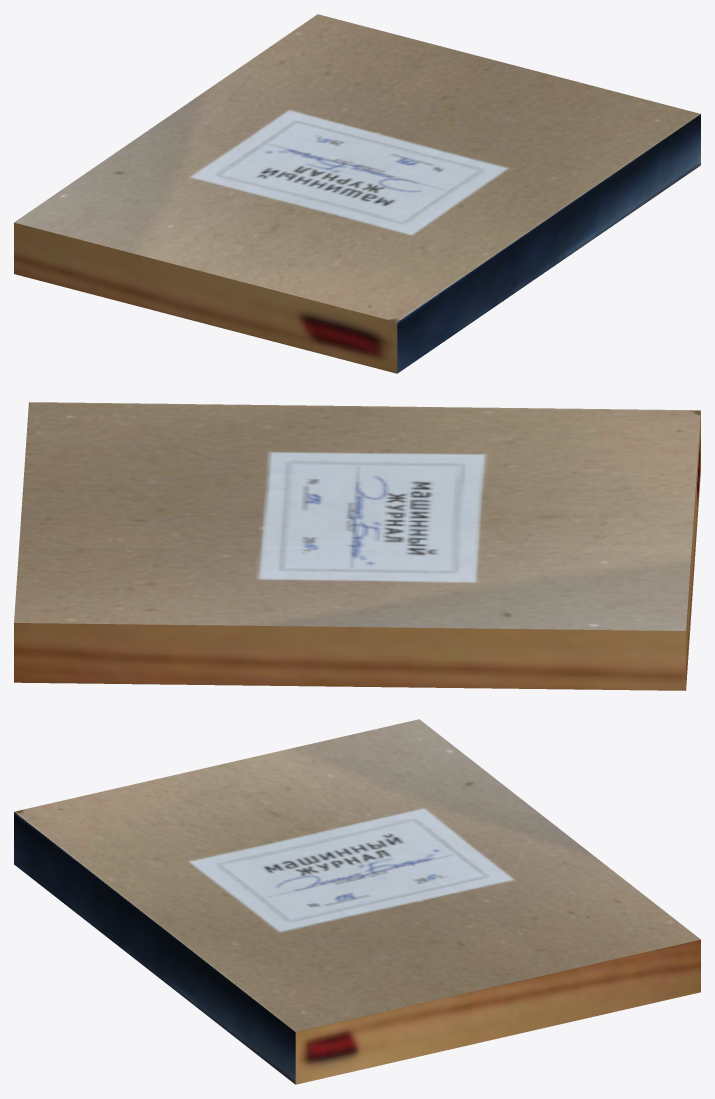
The model's file is textbook.fbx.
3 views of the same model, one above another, from view 1: azimuth 30°, elevation 25°; view 2: azimuth 150°, elevation 25°; view 3: azimuth 270°, elevation 25° (orthographic). The views are drawn at different scales.
Parts seen in each view (by area): view 1: Textbook; view 2: Textbook; view 3: Textbook.
Part boxes in pixels (x1,y1,x2,y2): Textbook: (14,14,700,373); Textbook: (14,402,700,690); Textbook: (14,719,700,1084).
Size of the model in its own units: 0.3589 by 0.333 by 0.0282.
Materials: 1 (1 with a texture image).
